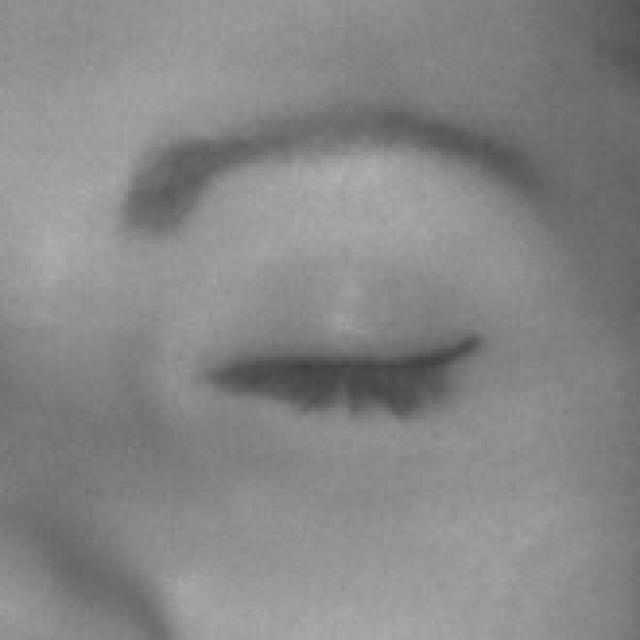Eyeclosed: (222, 267, 488, 505)
